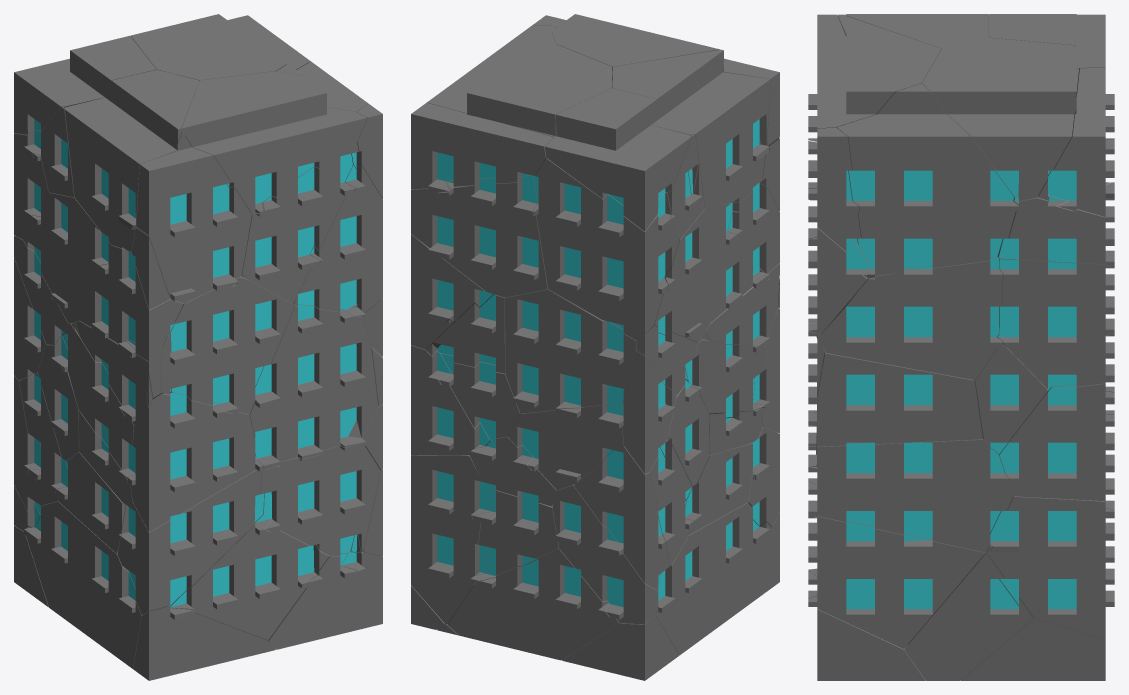
File: LLShatteredCity1.fbx
The picture shows the model from 3 angles, left to right: view 1: azimuth 30°, elevation 25°; view 2: azimuth 150°, elevation 25°; view 3: azimuth 270°, elevation 25°; orthographic projection. The views are drawn at different scales.
Visible parts, largest first — view 1: Cube.008_cell, Cube.008_cell.026, Cube.008_cell.062, Cube.008_cell.019, Cube.008_cell.044, Cube.008_cell.043, Cube.008_cell.064, Cube.008_cell.009, Cube.008_cell.016, Cube.008_cell.072, Cube.008_cell.070, Cube.008_cell.005 (+26 smaller); view 2: Cube.008_cell.065, Cube.008_cell.062, Cube.008_cell.040, Cube.008_cell.058, Cube.008_cell.012, Cube.008_cell.038, Cube.008_cell.053, Cube.008_cell.064, Cube.008_cell.063, Cube.008_cell.011, Cube.008_cell.049, Cube.008_cell.037 (+27 smaller); view 3: Cube.008_cell.021, Cube.008_cell.022, Cube.008_cell.063, Cube.008_cell.014, Cube.008_cell.046, Cube.008_cell.053, Cube.008_cell.032, Cube.008_cell.035, Cube.008_cell.047, Cube.008_cell, Cube.008_cell.059, Cube.008_cell.012 (+12 smaller).
Part boxes in pixels (x1,y1,x2,y2): Cube.008_cell: [182, 71, 366, 213]; Cube.008_cell.026: [249, 304, 378, 469]; Cube.008_cell.062: [65, 70, 199, 251]; Cube.008_cell.019: [136, 134, 251, 303]; Cube.008_cell.044: [127, 392, 263, 532]; Cube.008_cell.043: [161, 275, 294, 414]; Cube.008_cell.064: [24, 501, 142, 668]; Cube.008_cell.009: [117, 457, 264, 615]; Cube.008_cell.016: [170, 514, 340, 641]; Cube.008_cell.072: [261, 442, 380, 555]; Cube.008_cell.070: [241, 142, 358, 303]; Cube.008_cell.005: [292, 165, 382, 316]; Cube.008_cell.065: [533, 157, 679, 340]; Cube.008_cell.062: [611, 49, 770, 207]; Cube.008_cell.040: [505, 289, 637, 413]; Cube.008_cell.058: [544, 88, 691, 231]; Cube.008_cell.012: [411, 175, 547, 297]; Cube.008_cell.038: [448, 549, 619, 660]; Cube.008_cell.053: [411, 455, 494, 624]; Cube.008_cell.064: [655, 502, 772, 655]; Cube.008_cell.063: [427, 43, 612, 137]; Cube.008_cell.011: [411, 102, 553, 192]; Cube.008_cell.049: [574, 445, 670, 590]; Cube.008_cell.037: [552, 484, 658, 624]; Cube.008_cell.021: [836, 83, 1018, 278]; Cube.008_cell.022: [817, 439, 1013, 552]; Cube.008_cell.063: [922, 37, 1078, 201]; Cube.008_cell.014: [820, 256, 1003, 379]; Cube.008_cell.046: [817, 516, 985, 648]; Cube.008_cell.053: [983, 495, 1114, 639]; Cube.008_cell.032: [817, 348, 982, 446]; Cube.008_cell.035: [999, 259, 1114, 388]; Cube.008_cell.047: [999, 383, 1114, 501]; Cube.008_cell: [808, 16, 941, 141]; Cube.008_cell.059: [904, 553, 1033, 680]; Cube.008_cell.012: [997, 139, 1114, 265].
Bounding box in the file's own units: 98.88 × 208 × 102.
